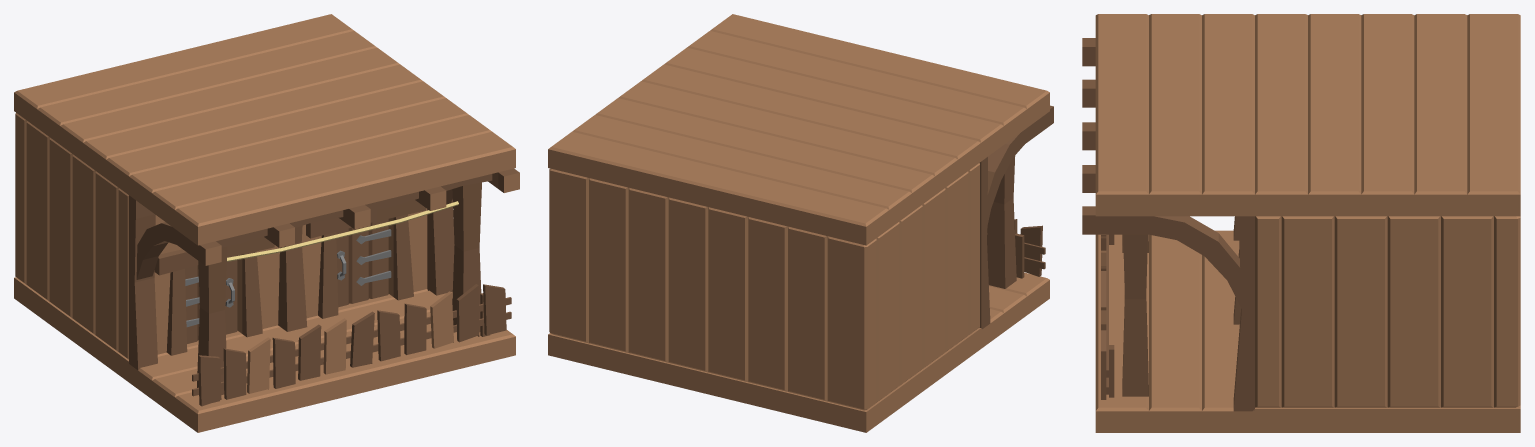
The model's file is LivingRooms_Level_01_Straight.fbx.
3 views of the same model, side by side, from view 1: azimuth 30°, elevation 25°; view 2: azimuth 150°, elevation 25°; view 3: azimuth 270°, elevation 25° (orthographic). The views are drawn at different scales.
Visible parts, largest first — view 1: LivingRooms_Level_01_Straight; view 2: LivingRooms_Level_01_Straight; view 3: LivingRooms_Level_01_Straight.
Boxes of the visible parts, x1,y1,x2,y2 form: LivingRooms_Level_01_Straight: (14,14,519,432); LivingRooms_Level_01_Straight: (548,14,1053,432); LivingRooms_Level_01_Straight: (1082,14,1520,432).
Size of the model in its own units: 8 by 5 by 8.25.
